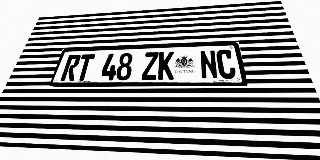4: (100, 53, 120, 80)
8: (115, 53, 134, 80)
C: (216, 49, 237, 79)
K: (158, 51, 174, 80)
N: (199, 50, 219, 79)
R: (60, 55, 82, 81)
T: (74, 54, 95, 81)
Z: (141, 52, 159, 80)
